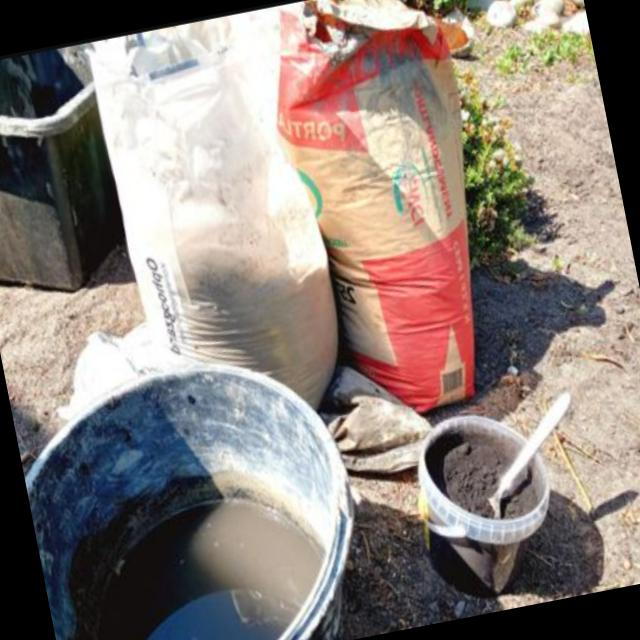KantongSemen: (263, 0, 537, 430)
